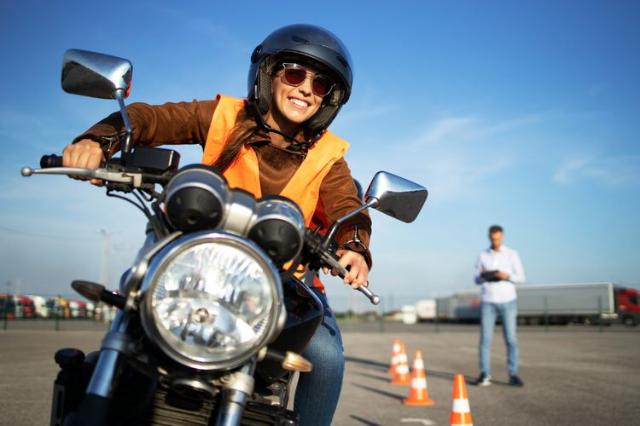helm: (251, 23, 355, 138)
motor: (20, 124, 429, 426)
